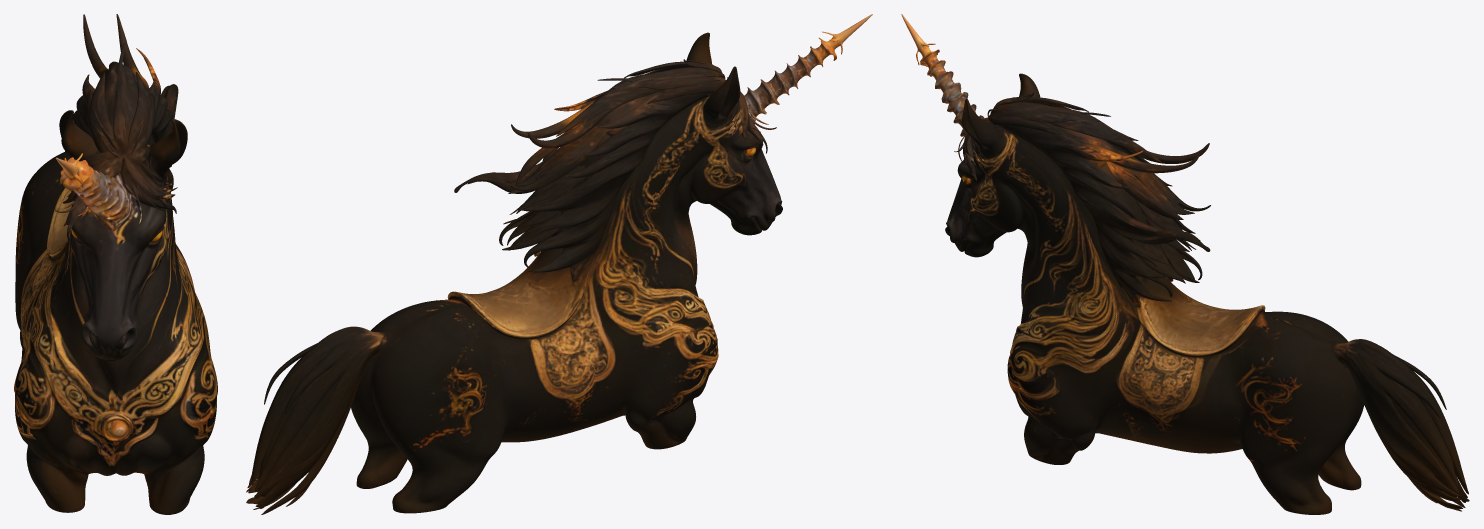
File: huan-shu.glb
3 views of the same model, side by side, from view 1: azimuth 30°, elevation 25°; view 2: azimuth 150°, elevation 25°; view 3: azimuth 270°, elevation 25° (orthographic). The views are drawn at different scales.
Visible parts, largest first — view 1: node_0; view 2: node_0; view 3: node_0.
Boxes of the visible parts, x1=… form: node_0: x1=14, y1=14, x2=217, y2=514; node_0: x1=246, y1=14, x2=872, y2=514; node_0: x1=901, y1=14, x2=1469, y2=514.
Size of the model in its own units: 0.5586 by 0.6068 by 0.8602.
Materials: 1 (1 with a texture image).
